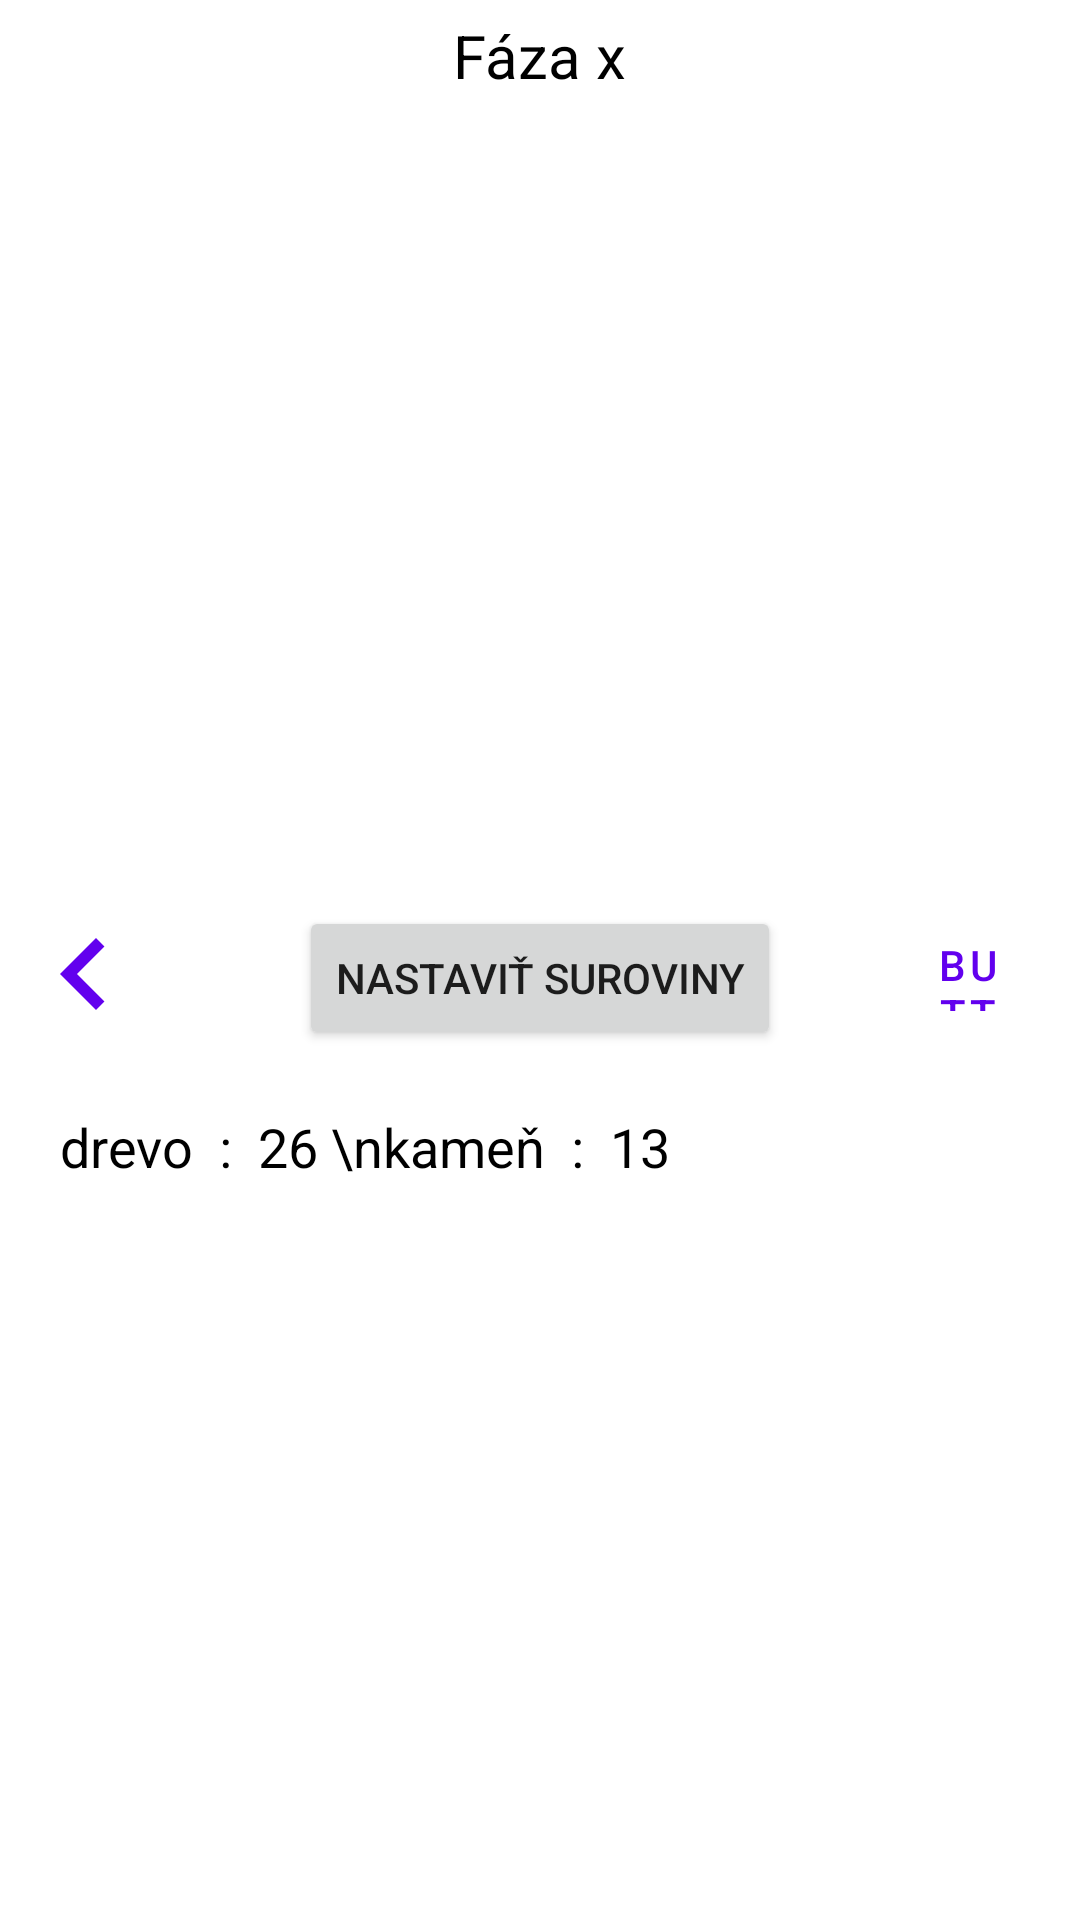

Locate icon controls on the screen. Image size 1080x1920, boxes as (left=x1, top=y1, right=x2, bottom=y2).
keyboard arrow left: (left=60, top=938, right=105, bottom=1010)
